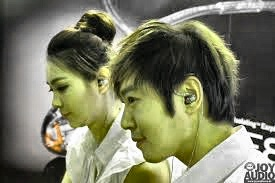earphone: (181, 76, 203, 114), (97, 67, 112, 94)
